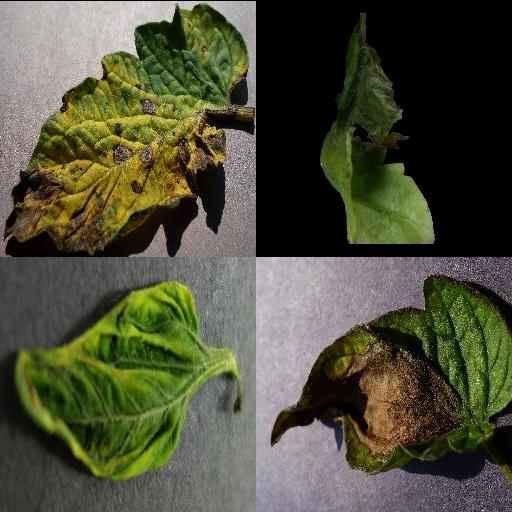Early Blight: (4, 3, 250, 251)
Late Blight: (269, 276, 512, 477), (318, 12, 438, 242)
Yellow Leaf Curl Virus: (13, 282, 201, 480)
